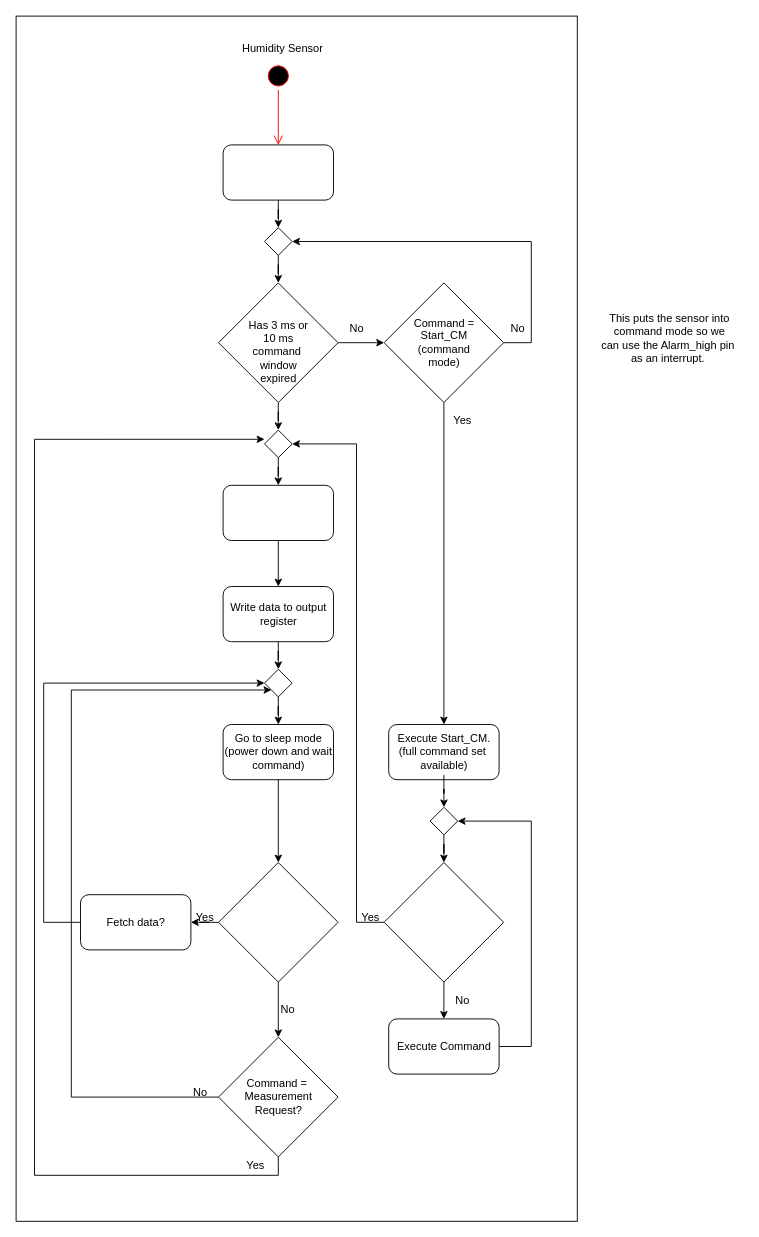
Some shapes in this 759 by 1237 pixel diagram are drawn without their labels. Each missing label, with the centre of its shape:
"Command = Fetch data?" belongs at (278,922).
"Command = Start_NOM (normal operation mode)?" belongs at (443,922).
"Perform Measurement cycle" belongs at (278,512).
"Power-On" belongs at (278,172).
